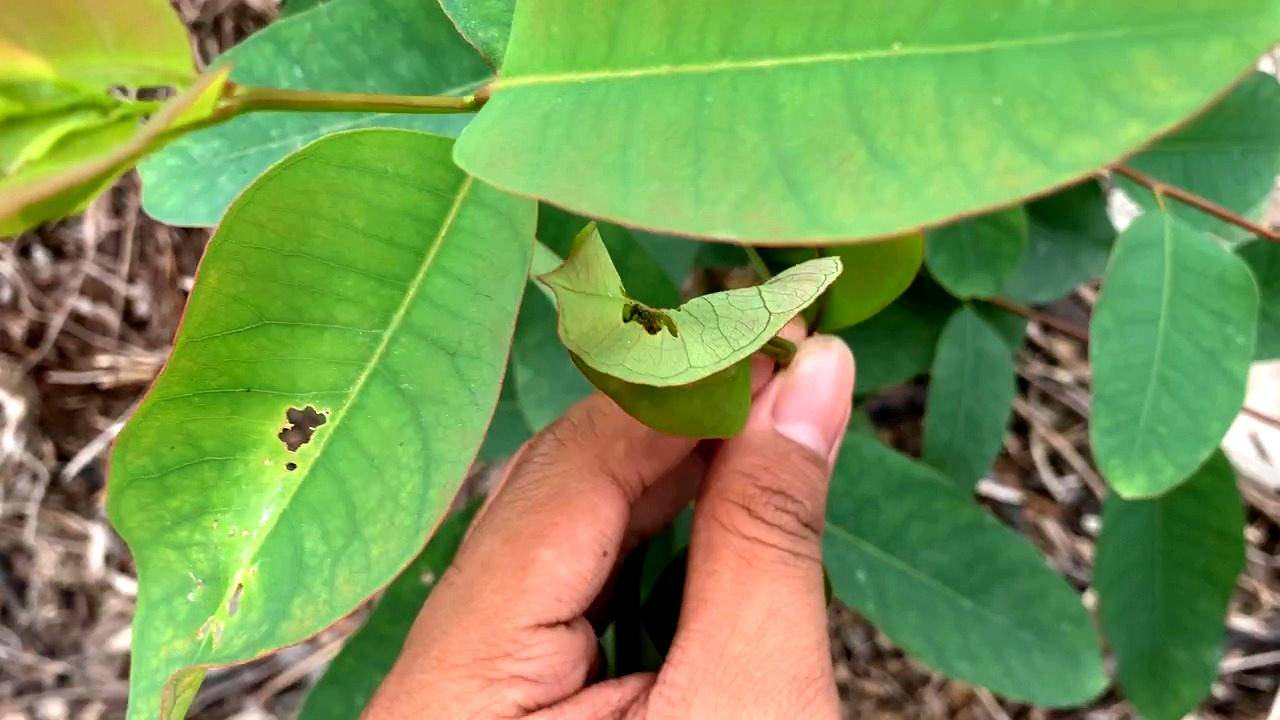Leaf Roller - Leaf: (527, 210, 850, 452)
